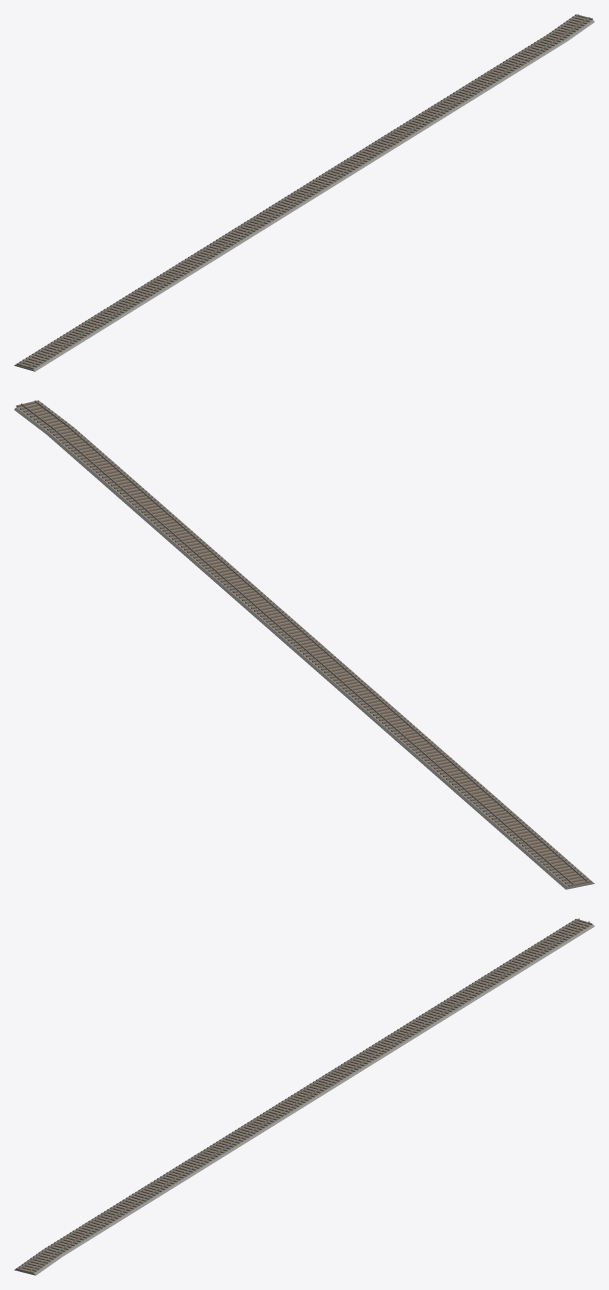
The model's file is rail_01206.glb.
The picture shows the model from 3 angles, top to bottom: view 1: azimuth 90°, elevation 25°; view 2: azimuth 150°, elevation 25°; view 3: azimuth 270°, elevation 25°; orthographic projection. The views are drawn at different scales.
Parts seen in each view (by area): view 1: Sleepers, Ballast, Rails; view 2: Sleepers, Ballast, Rails; view 3: Sleepers, Ballast, Rails.
Part boxes in pixels (box(x1,y1,x2,y2)): Sleepers: box(16, 14, 592, 369); Ballast: box(14, 15, 594, 371); Rails: box(19, 14, 589, 367); Sleepers: box(16, 400, 591, 886); Ballast: box(14, 401, 594, 889); Rails: box(21, 400, 587, 884); Sleepers: box(16, 918, 592, 1273); Ballast: box(14, 919, 594, 1275); Rails: box(19, 918, 589, 1271).
Bounding box in the file's own units: 98.64 × 0.48 × 68.17.
